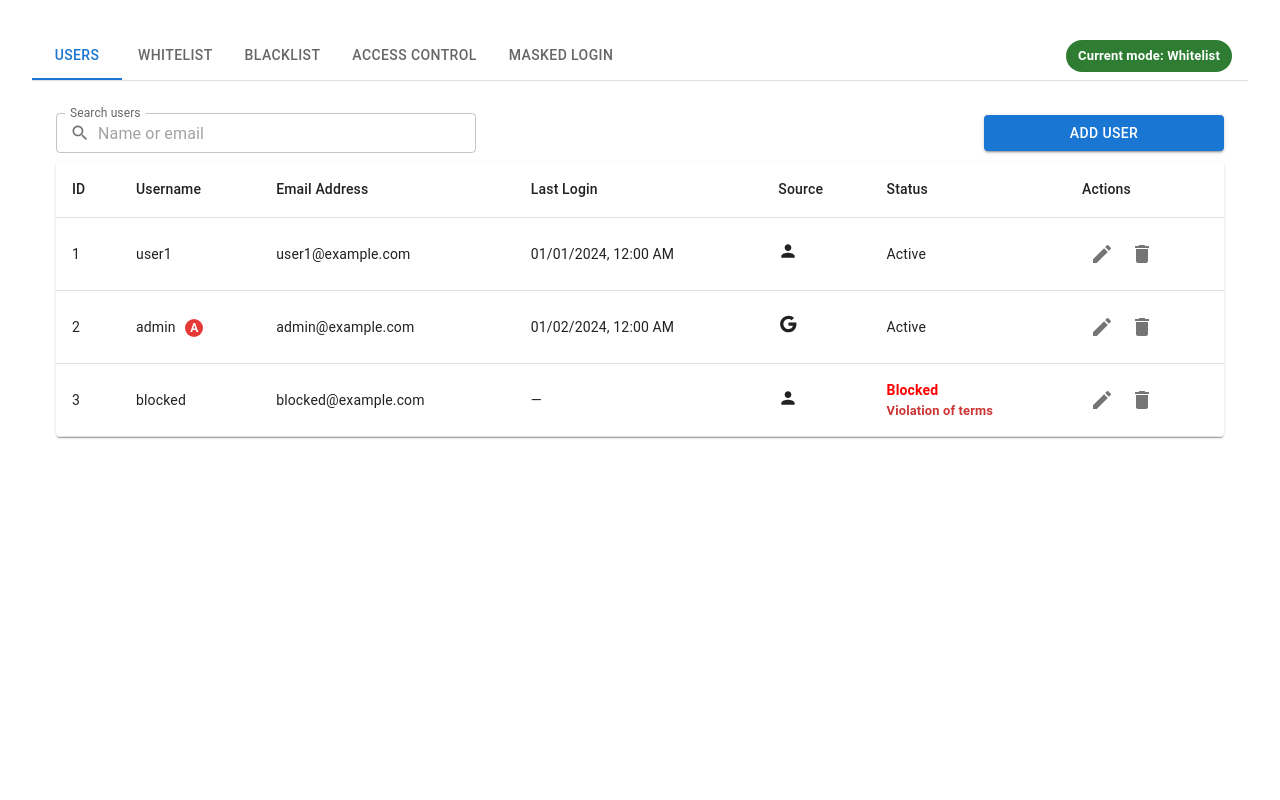
Test: AdminPage › User Management › opens edit user dialog when edit button is clicked
This screenshot has width=1280, height=800.
expect the text "user1" is shown: met, box [120,218,260,290]
Click the button named "Edit" in the row of "user1@example.com" at (1102, 254), box [1082,234,1122,274]
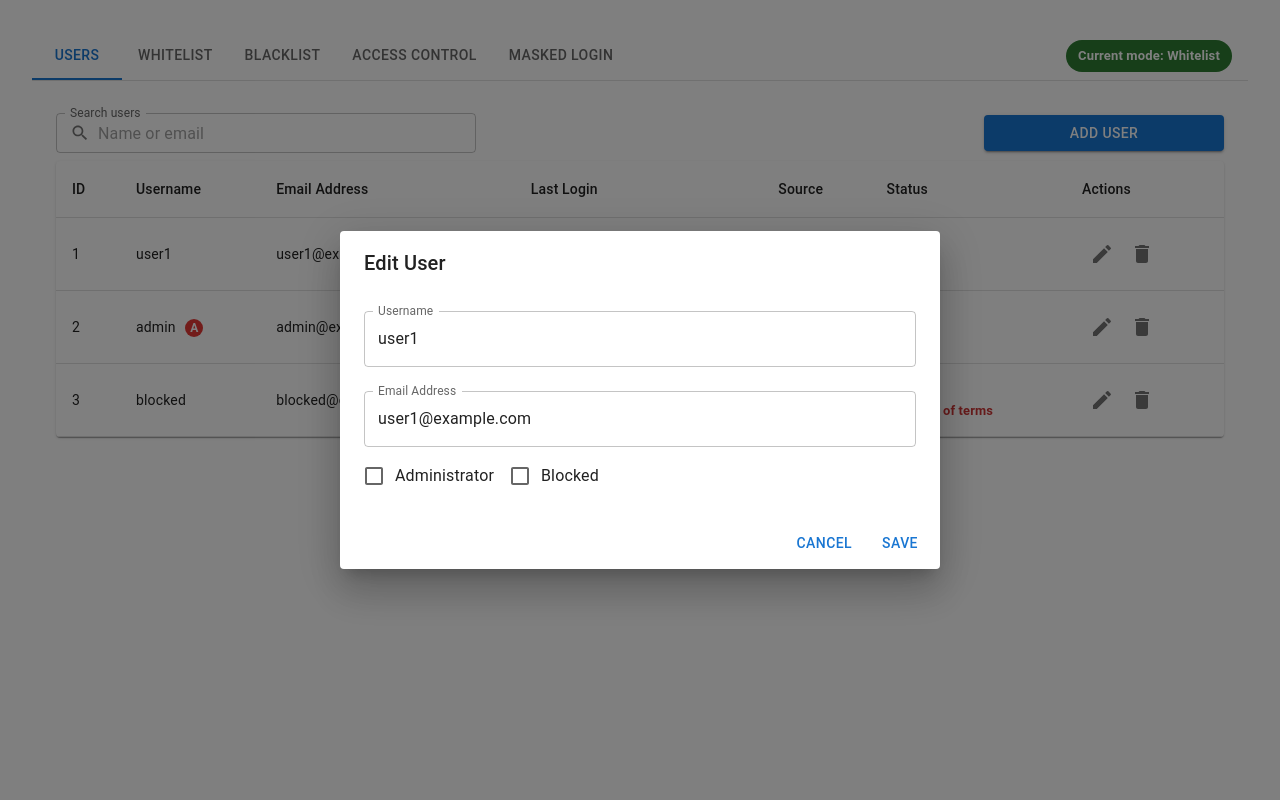
expect the dialog is shown: met, box [340,231,940,569]
expect the heading "Edit User" is shown: met, box [364,251,446,275]
